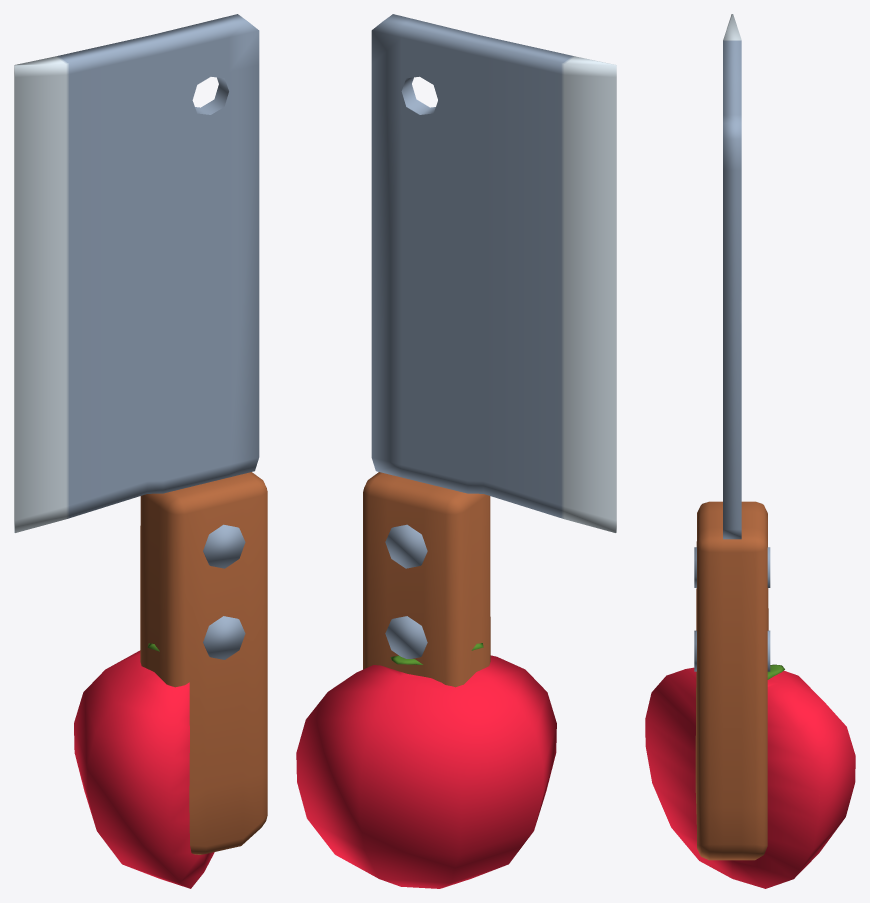
The model's file is Props_KnifeAndTomatoH.fbx.
The picture shows the model from 3 angles, left to right: view 1: azimuth 30°, elevation 25°; view 2: azimuth 150°, elevation 25°; view 3: azimuth 270°, elevation 25°; orthographic projection. The views are drawn at different scales.
Visible parts, largest first — view 1: knife.001, Tomato_halfed; view 2: knife.001, Tomato_halfed; view 3: knife.001, Tomato_halfed.
Boxes of the visible parts, x1,y1,x2,y2 form: knife.001: [14, 14, 267, 854]; Tomato_halfed: [74, 643, 214, 888]; knife.001: [363, 14, 616, 687]; Tomato_halfed: [296, 643, 556, 888]; knife.001: [694, 14, 770, 860]; Tomato_halfed: [645, 664, 855, 888].
Size of the model in its own units: 27.43 by 82.17 by 20.1.
